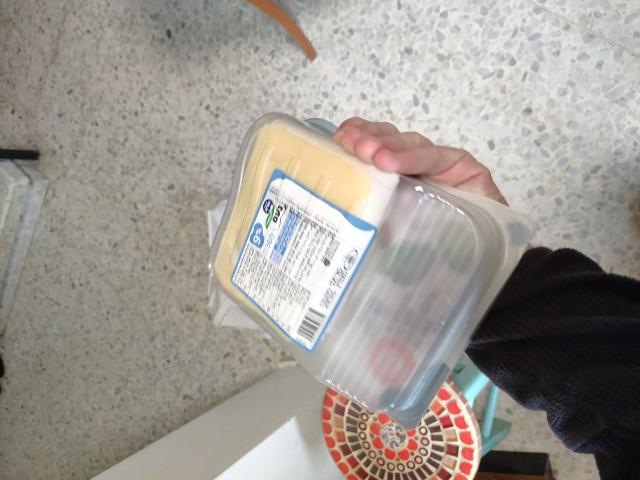cheese: (184, 150, 484, 429)
